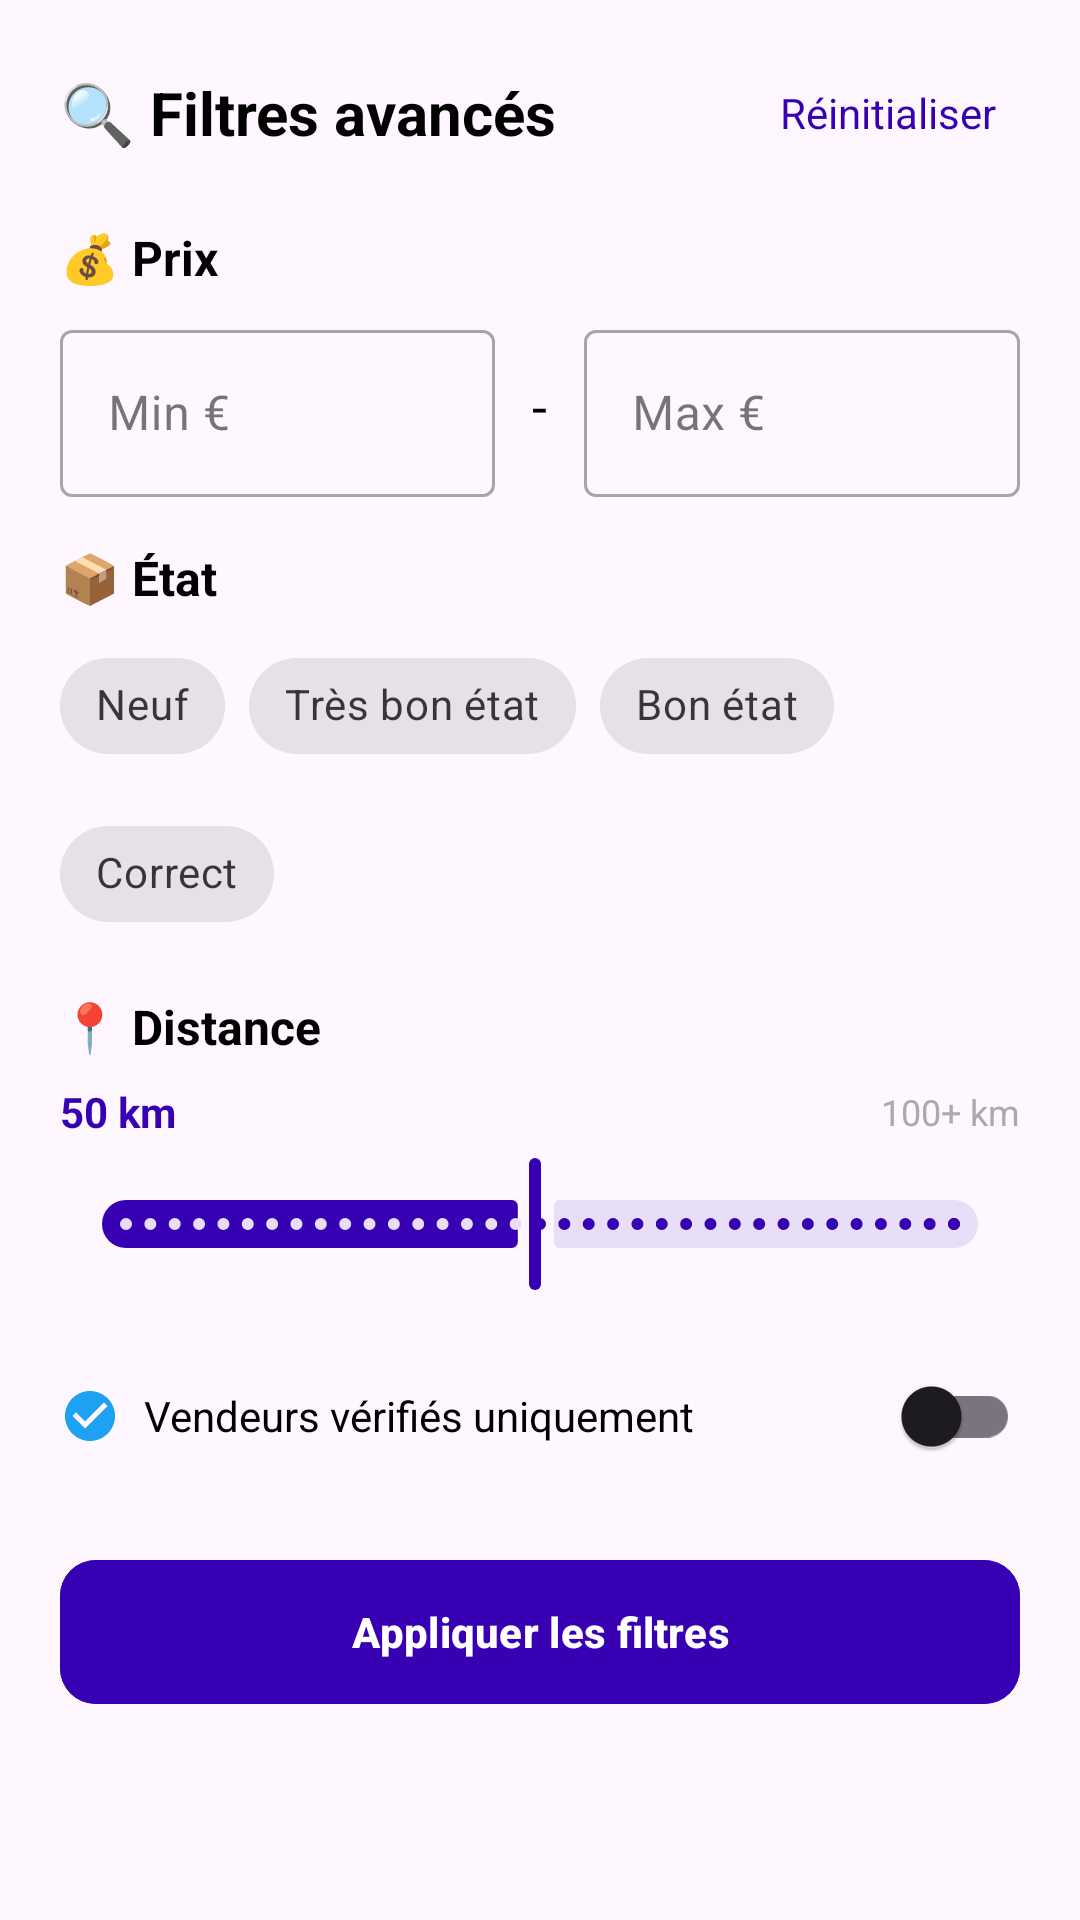

Screen size 1080 x 1920. Icon name, then its box in pixels as (left=x1, top=y1, right=x2, bottom=y2):
verified: (left=65, top=1391, right=115, bottom=1441)
